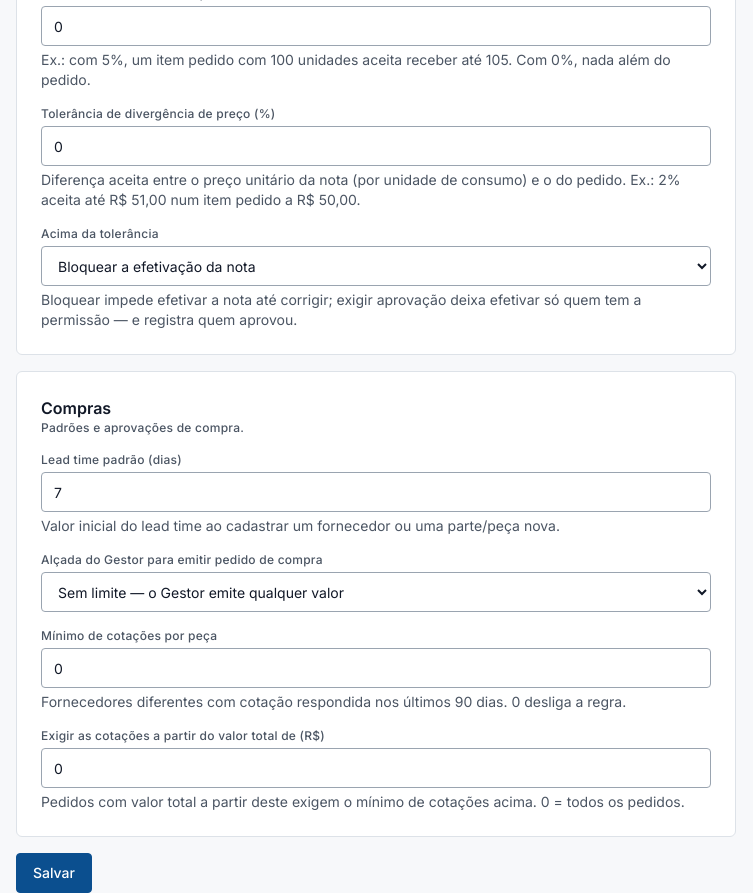
Test: ParametrosNegocio › limite escolhido sem valor nao envia e explica o que falta
The width and height of the screenshot is (753, 893).
(page scrolled)
Select "Limitar ao valor abaixo — acima dele, só o Administrador" in the dropdown labelled "Alçada do Gestor para emitir pedido de compra": (376, 592) [41,572,711,612]
(page scrolled)
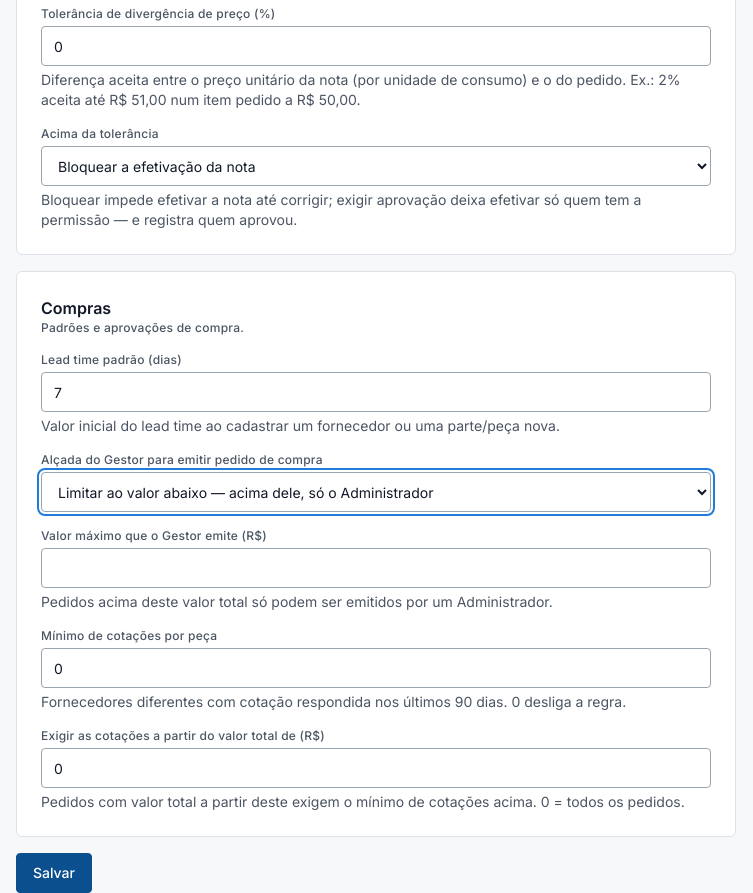
Click the button "Salvar": (54, 873) [16,853,92,892]
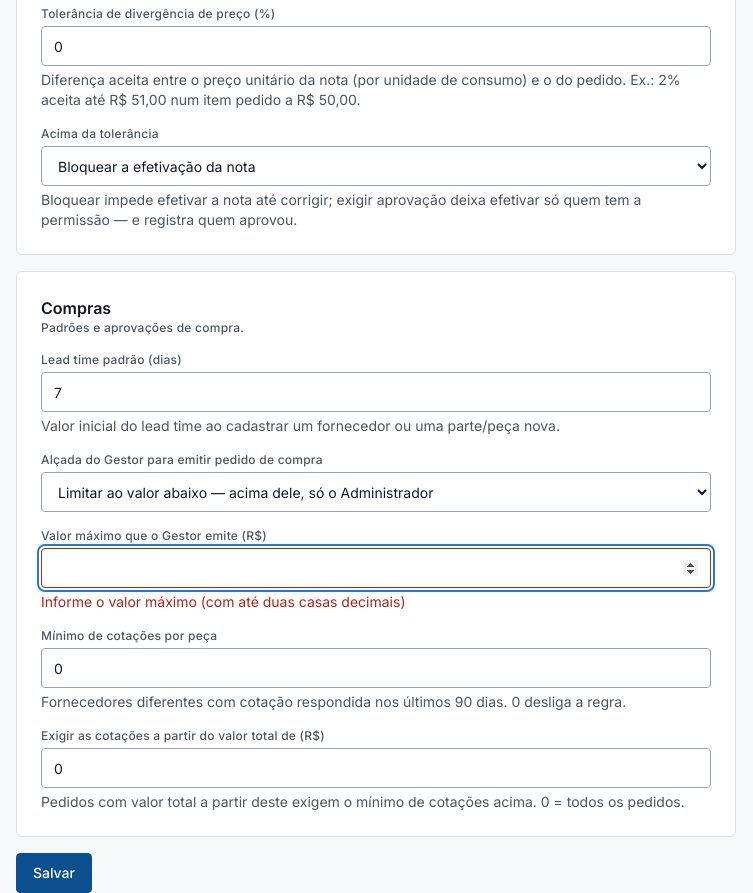
Result: the text "Informe o valor máximo (com até duas casas decimais)" is shown at [41,593,406,610]
